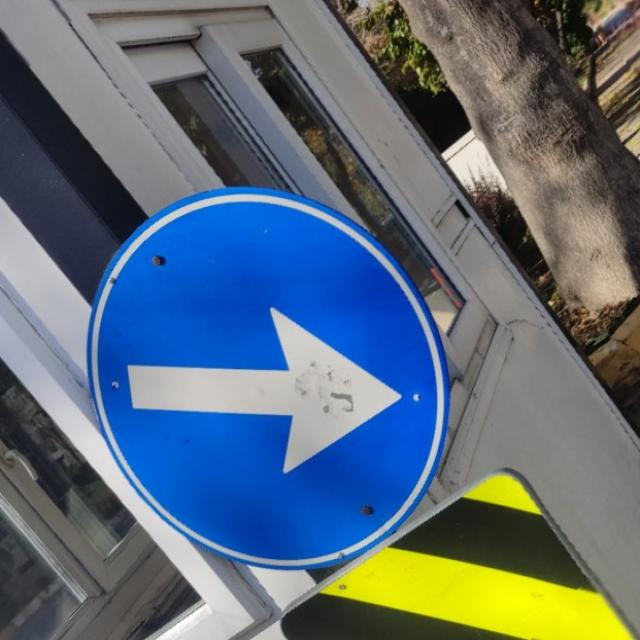Turn Right: (91, 196, 454, 576)
